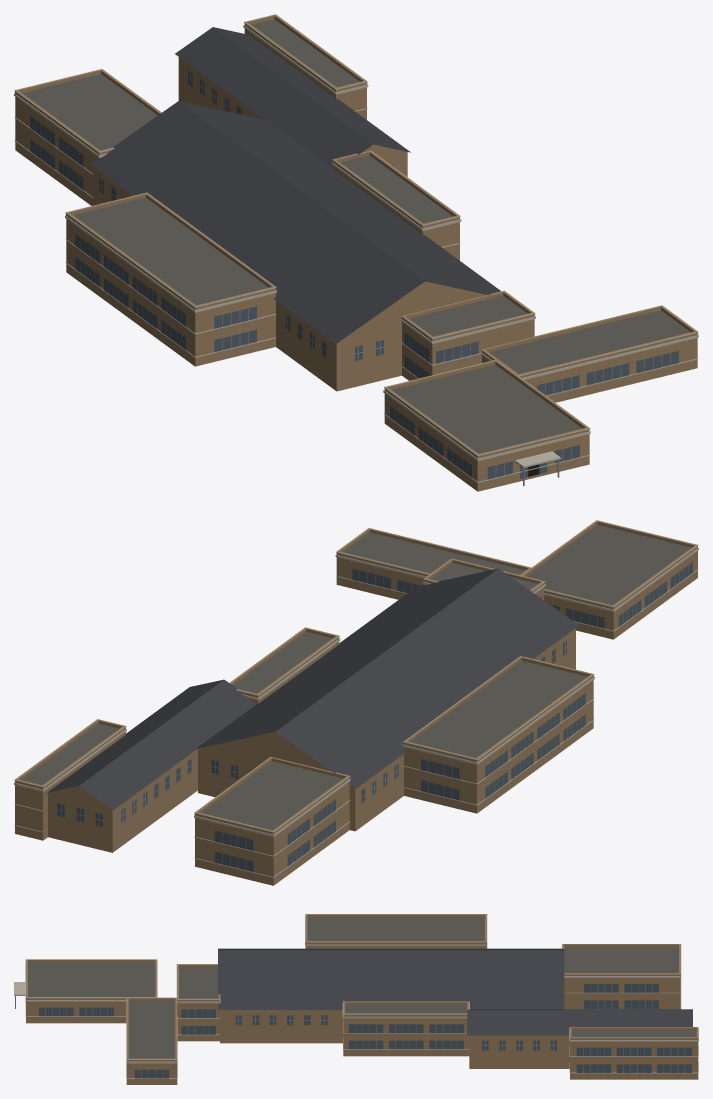
File: ridge-road-middle-school-nlr.glb
3 renders of one model, top to bottom at view 1: azimuth 30°, elevation 25°; view 2: azimuth 150°, elevation 25°; view 3: azimuth 270°, elevation 25°, orthographic. The views are drawn at different scales.
Parts seen in each view (by area): view 1: ridge_road_middle_school_nlr; view 2: ridge_road_middle_school_nlr; view 3: ridge_road_middle_school_nlr.
Boxes of the visible parts, left/top/right/bottom form: ridge_road_middle_school_nlr: left=14, top=14, right=698, bottom=491; ridge_road_middle_school_nlr: left=14, top=520, right=698, bottom=885; ridge_road_middle_school_nlr: left=14, top=914, right=698, bottom=1084.
Size of the model in its own units: 60.74 by 13.86 by 136.
